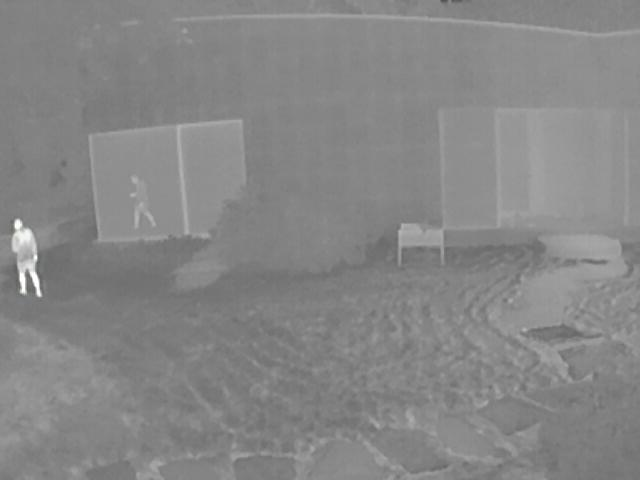person: (11, 218, 43, 298), (126, 172, 156, 231)
